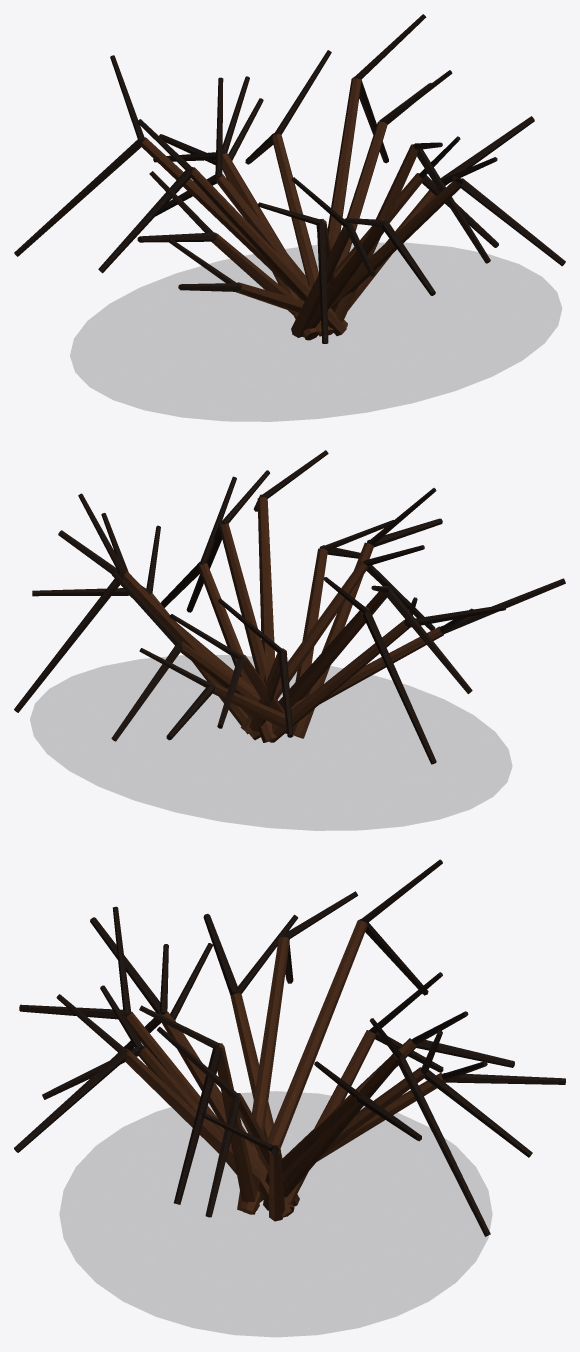
File: dry_bush_bc_v1.glb
3 views of the same model, one above another, from view 1: azimuth 30°, elevation 25°; view 2: azimuth 150°, elevation 25°; view 3: azimuth 270°, elevation 25° (orthographic). The views are drawn at different scales.
Parts seen in each view (by area): view 1: ground_contact_shadow.004, bush_stem_13, bush_stem_2, bush_stem_1, bush_stem_7, bush_stem_14, bush_stem_3, bush_stem_6, bush_stem_9, bush_twig_14, bush_stem_8, bush_stem_15 (+21 smaller); view 2: ground_contact_shadow.004, bush_stem_7, bush_stem_12, bush_stem_6, bush_stem_10, bush_stem_14, bush_stem_5, bush_twig_14, bush_stem_11, bush_stem_9, bush_stem_2, bush_twig_2 (+23 smaller); view 3: ground_contact_shadow.004, bush_stem_14, bush_stem_13, bush_stem_7, bush_stem_2, bush_stem_6, bush_twig_2, bush_stem_10, bush_stem_3, bush_stem_12, bush_twig_6, bush_stem_15 (+24 smaller).
Boxes of the visible parts, bbox=[...] form: ground_contact_shadow.004: bbox=[70, 243, 561, 421]; bush_stem_13: bbox=[191, 167, 346, 335]; bush_stem_2: bbox=[327, 78, 361, 249]; bush_stem_1: bbox=[272, 134, 333, 335]; bush_stem_7: bbox=[330, 181, 460, 309]; bush_stem_14: bbox=[140, 137, 347, 327]; bush_stem_3: bbox=[315, 121, 387, 335]; bush_stem_6: bbox=[331, 144, 417, 332]; bush_stem_9: bbox=[291, 223, 353, 337]; bush_twig_14: bbox=[14, 138, 142, 256]; bush_stem_8: bbox=[302, 219, 385, 337]; bush_stem_15: bbox=[215, 174, 308, 284]; ground_contact_shadow.004: bbox=[30, 655, 511, 830]; bush_stem_7: bbox=[257, 497, 274, 683]; bush_stem_12: bbox=[269, 620, 409, 742]; bush_stem_6: bbox=[219, 523, 278, 701]; bush_stem_10: bbox=[240, 561, 368, 734]; bush_stem_14: bbox=[278, 607, 369, 710]; bush_stem_5: bbox=[198, 563, 276, 742]; bush_twig_14: bbox=[362, 609, 436, 764]; bush_stem_11: bbox=[247, 626, 443, 740]; bush_stem_9: bbox=[293, 542, 374, 738]; bush_stem_2: bbox=[122, 570, 253, 719]; bush_twig_2: bbox=[14, 572, 123, 712]; ground_contact_shadow.004: bbox=[60, 1091, 491, 1336]; bush_stem_14: bbox=[239, 920, 367, 1214]; bush_stem_13: bbox=[237, 937, 289, 1210]; bush_stem_7: bbox=[125, 1048, 263, 1196]; bush_stem_2: bbox=[263, 1052, 402, 1210]; bush_stem_6: bbox=[217, 1043, 259, 1210]; bush_twig_2: bbox=[396, 1053, 490, 1236]; bush_stem_10: bbox=[161, 1012, 291, 1219]; bush_stem_3: bbox=[260, 1092, 359, 1195]; bush_stem_12: bbox=[230, 993, 282, 1158]; bush_twig_6: bbox=[173, 1046, 222, 1204]; bush_stem_15: bbox=[284, 1030, 375, 1215].
Bounding box in the file's own units: 1.51 × 0.7958 × 1.4.
Materials: 3 (3 with a texture image).
